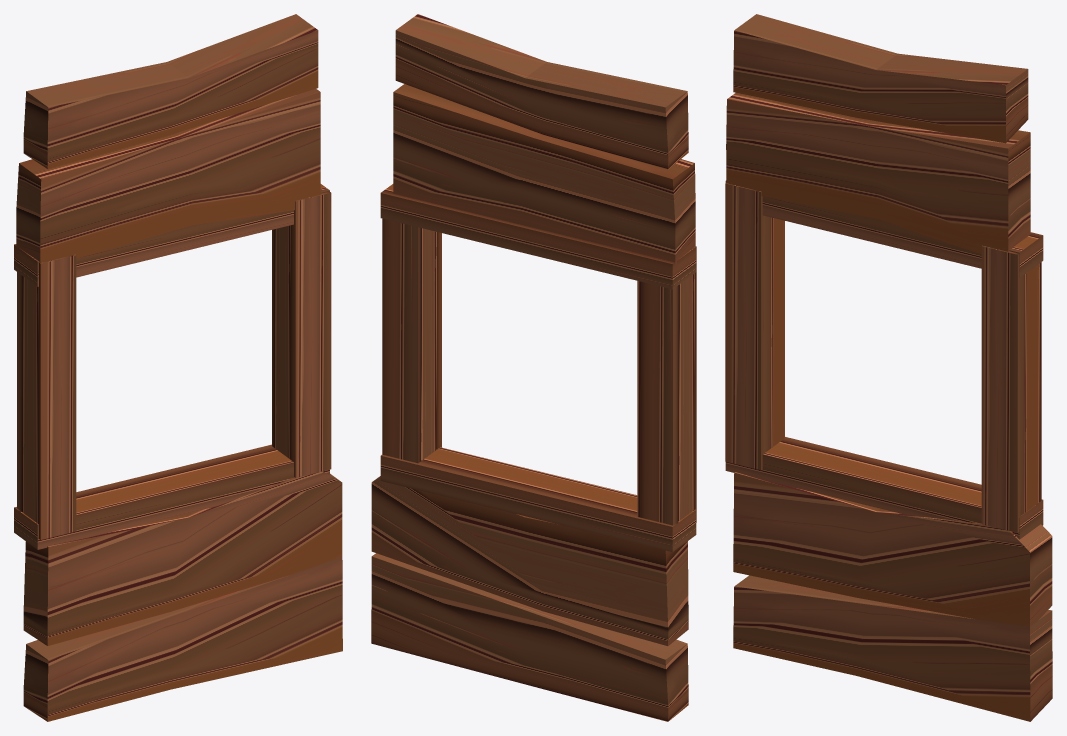
Rendered from MSH_Piso1_Ventana05.FBX.
3 views of the same model, side by side, from view 1: azimuth 30°, elevation 25°; view 2: azimuth 150°, elevation 25°; view 3: azimuth 330°, elevation 25° (orthographic).
Visible parts, largest first — view 1: MSH_Piso1_Ventana05; view 2: MSH_Piso1_Ventana05; view 3: MSH_Piso1_Ventana05.
Boxes of the visible parts, x1,y1,x2,y2 form: MSH_Piso1_Ventana05: (14, 14, 342, 721); MSH_Piso1_Ventana05: (371, 14, 696, 721); MSH_Piso1_Ventana05: (725, 14, 1052, 721).
Bounding box in the file's own units: 51.69 × 102 × 7.43.
1 material, 1 textured.
